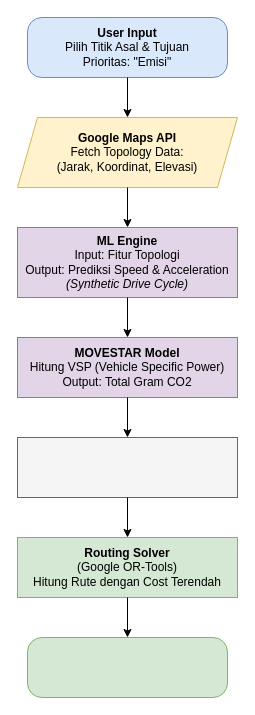
Some shapes in this 255 by 715 pixel diagram are drawn without their labels. Here are the shapes that lost their labels. From the top down, the centre of each, then its label:
point 127,467: Cost Matrix Builder Konversi Emisi CO2 menjadi "Biaya" (Weight)
point 127,667: Visualisasi Output Tampilkan Jalur Hijau pada Peta Web App
